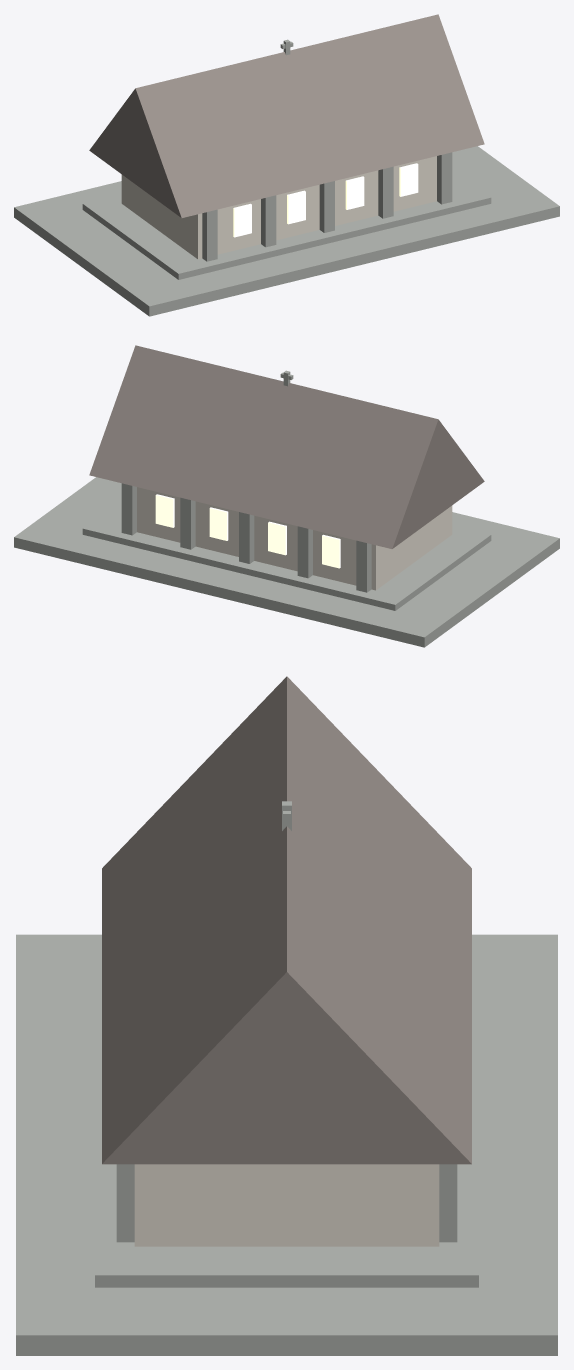
Rendered from lm_38_nha_tho_cam_ly_nha_rong_roof.glb.
3 renders of one model, top to bottom at view 1: azimuth 30°, elevation 25°; view 2: azimuth 150°, elevation 25°; view 3: azimuth 270°, elevation 25°, orthographic. The views are drawn at different scales.
Parts seen in each view (by area): view 1: lm_38_nha_tho_cam_ly_nha_rong_roof; view 2: lm_38_nha_tho_cam_ly_nha_rong_roof; view 3: lm_38_nha_tho_cam_ly_nha_rong_roof.
Part boxes in pixels (x1,y1,x2,y2): lm_38_nha_tho_cam_ly_nha_rong_roof: [14, 14, 559, 316]; lm_38_nha_tho_cam_ly_nha_rong_roof: [14, 345, 559, 647]; lm_38_nha_tho_cam_ly_nha_rong_roof: [16, 676, 557, 1355].
Bounding box in the file's own units: 42 × 17.2 × 24.
